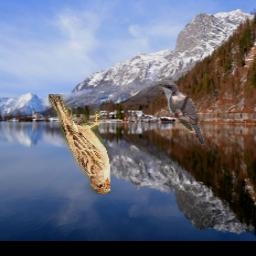Cuckoo: (156, 79, 204, 145)
Sparrow: (49, 94, 110, 194)
